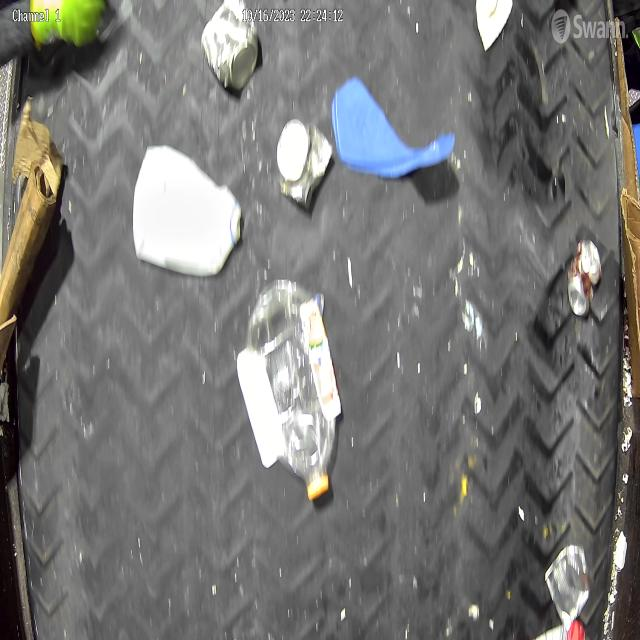can: (200, 1, 259, 93), (276, 118, 334, 210), (546, 541, 594, 626), (566, 239, 602, 320)
milk_jug: (133, 144, 242, 277)
plastic_bottle: (241, 279, 340, 497)
